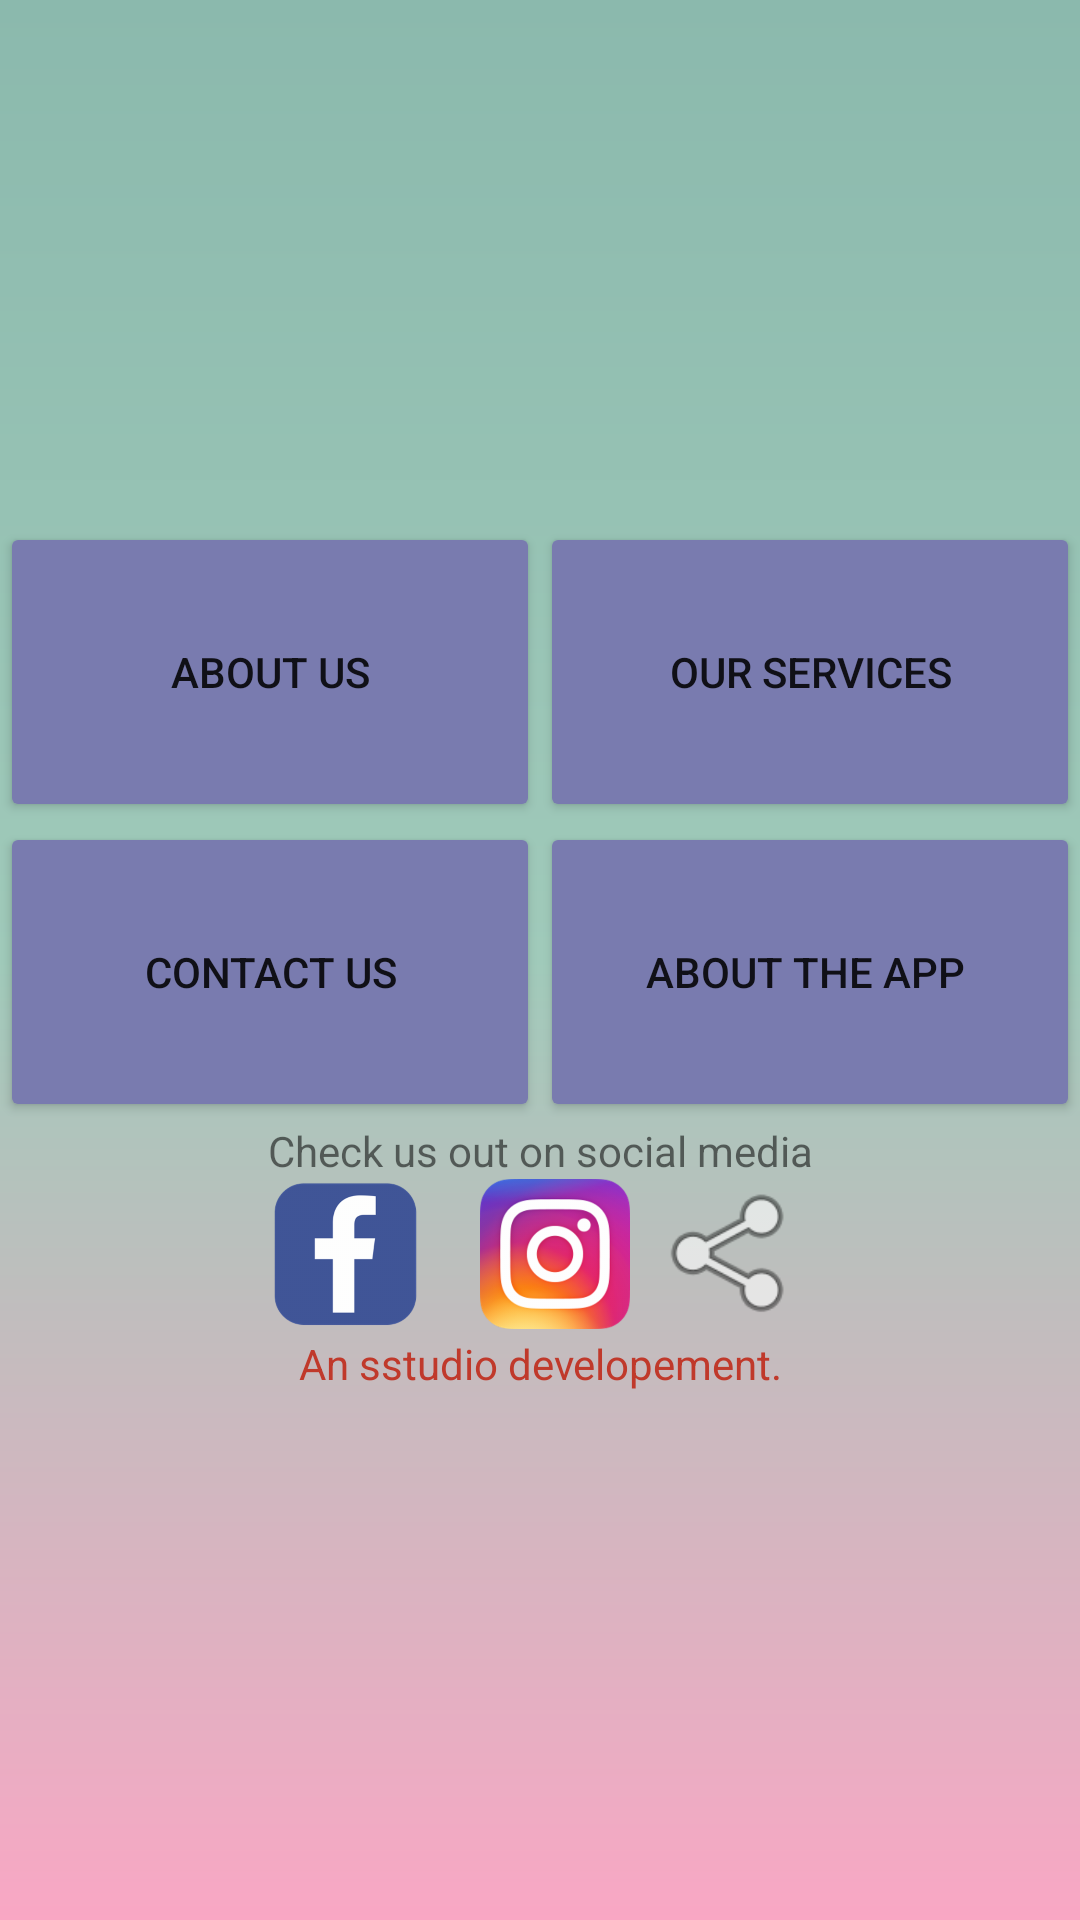

Point at icon controls on the screen. Image size 1080px x 1920px, points as point (x, y).
share: point (727, 1253)
